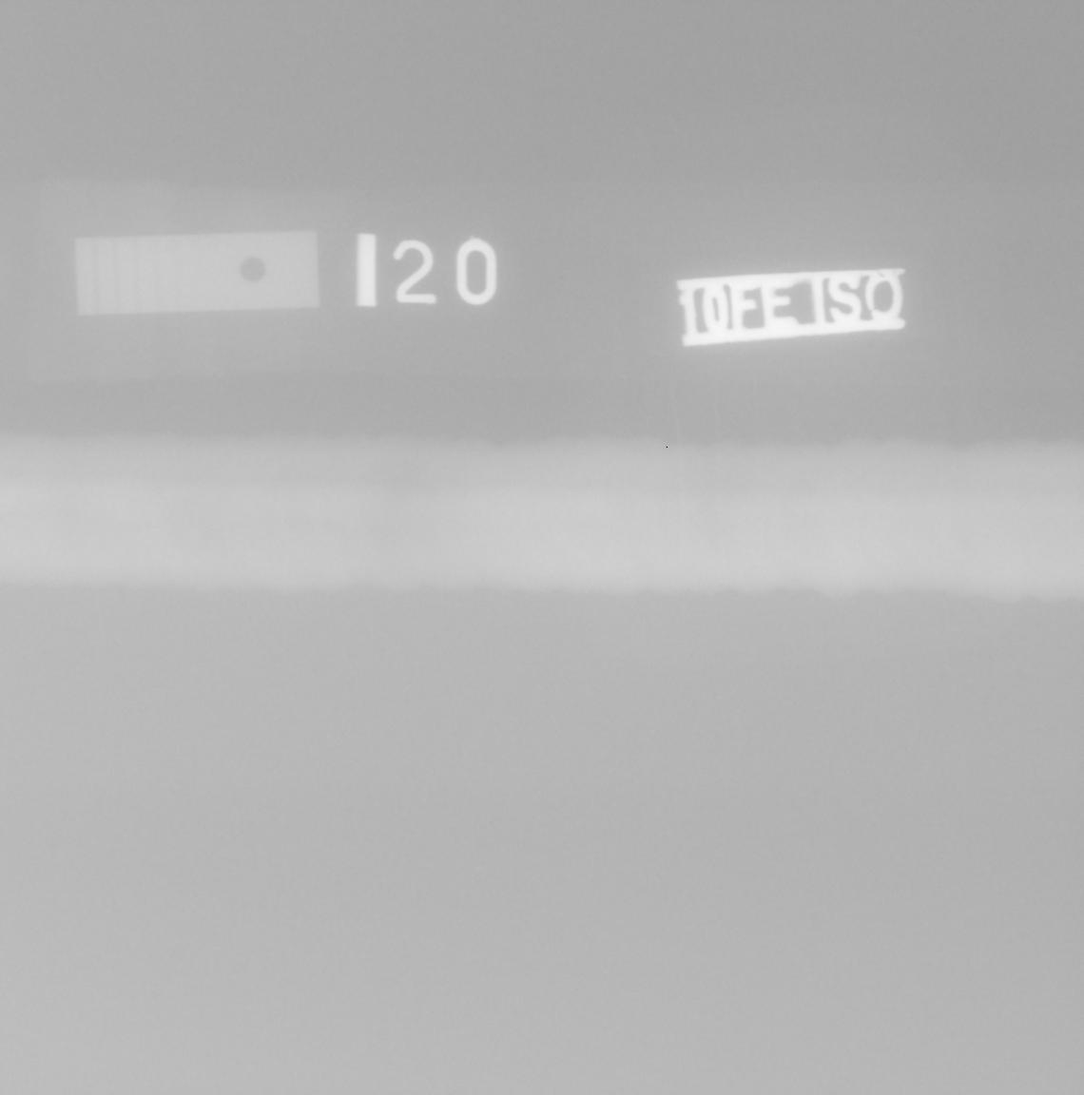Reference Standard 1: (76, 233, 320, 314)
